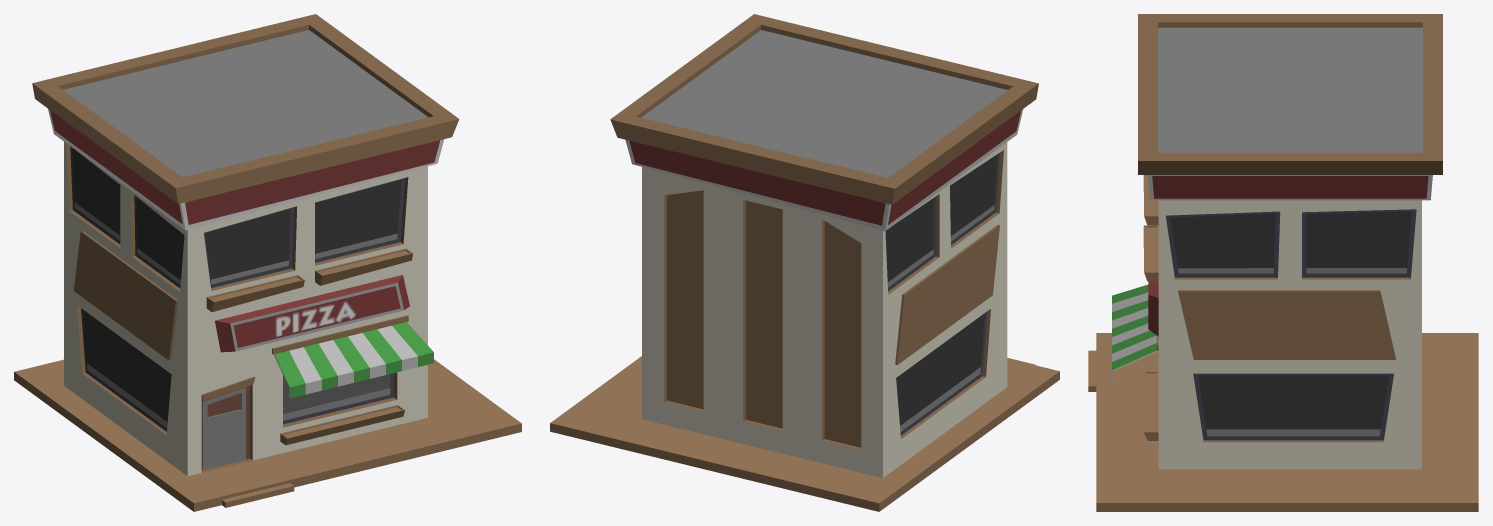
The model's file is pizza02_color02.fbx.
The picture shows the model from 3 angles, left to right: view 1: azimuth 30°, elevation 25°; view 2: azimuth 150°, elevation 25°; view 3: azimuth 270°, elevation 25°; orthographic projection. The views are drawn at different scales.
Parts seen in each view (by area): view 1: pizza02_color02; view 2: pizza02_color02; view 3: pizza02_color02.
Part boxes in pixels (x1=…): pizza02_color02: x1=14, y1=14, x2=521, y2=511; pizza02_color02: x1=550, y1=14, x2=1059, y2=511; pizza02_color02: x1=1088, y1=14, x2=1478, y2=511.
Size of the model in its own units: 1295 by 1167 by 1258.
